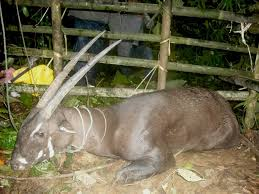sao_la: (7, 30, 241, 176)
